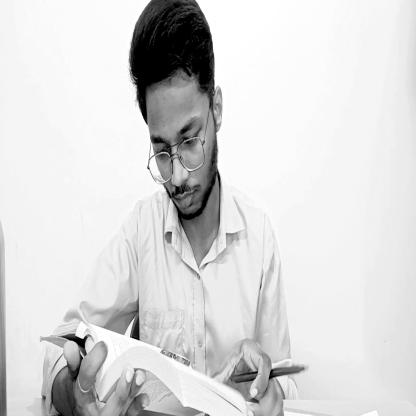Distracted: (131, 0, 220, 228)
